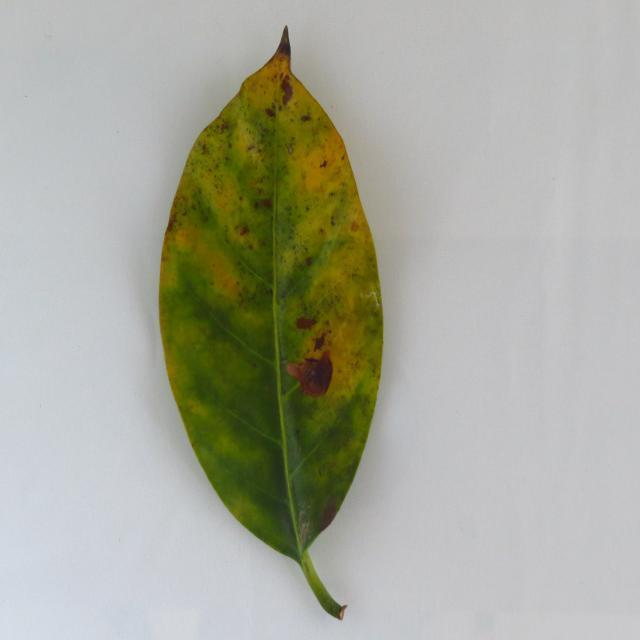DeficienciaNutricional-Nitrogeno: (161, 31, 379, 614)
